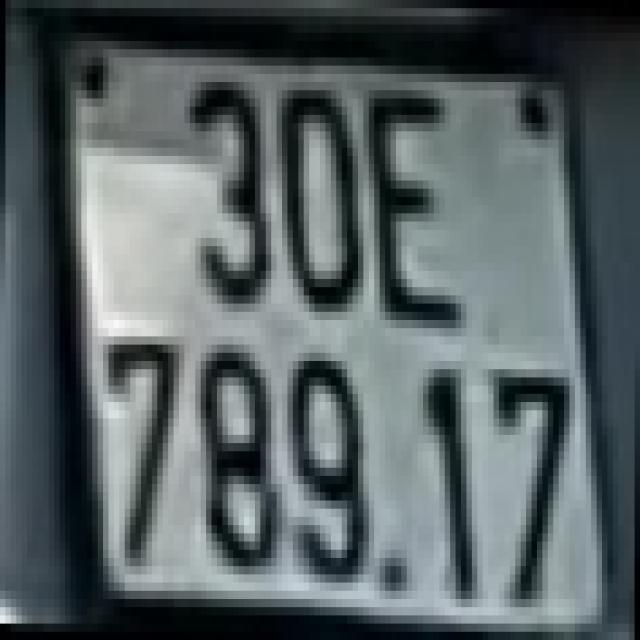0: (282, 82, 363, 312)
1: (423, 369, 483, 607)
3: (190, 74, 271, 303)
7: (493, 369, 575, 607), (103, 337, 179, 566)
8: (200, 345, 276, 574)
9: (287, 353, 369, 582)
E: (369, 82, 461, 328)
